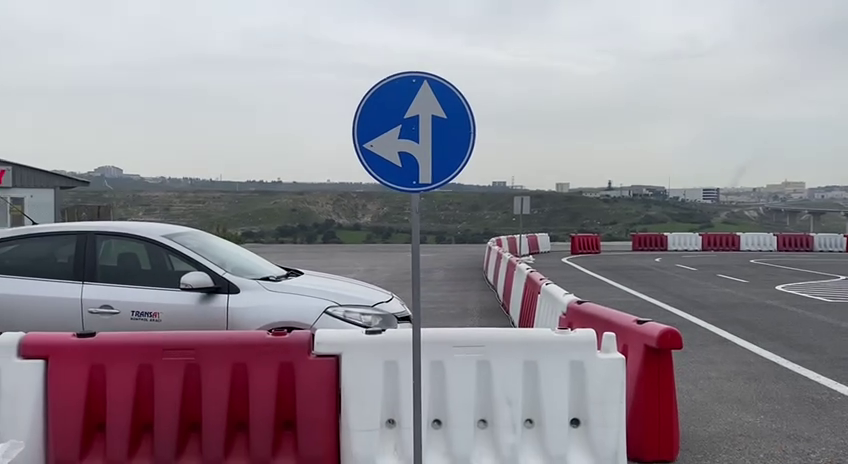forwardAndLeft: (349, 68, 478, 195)
